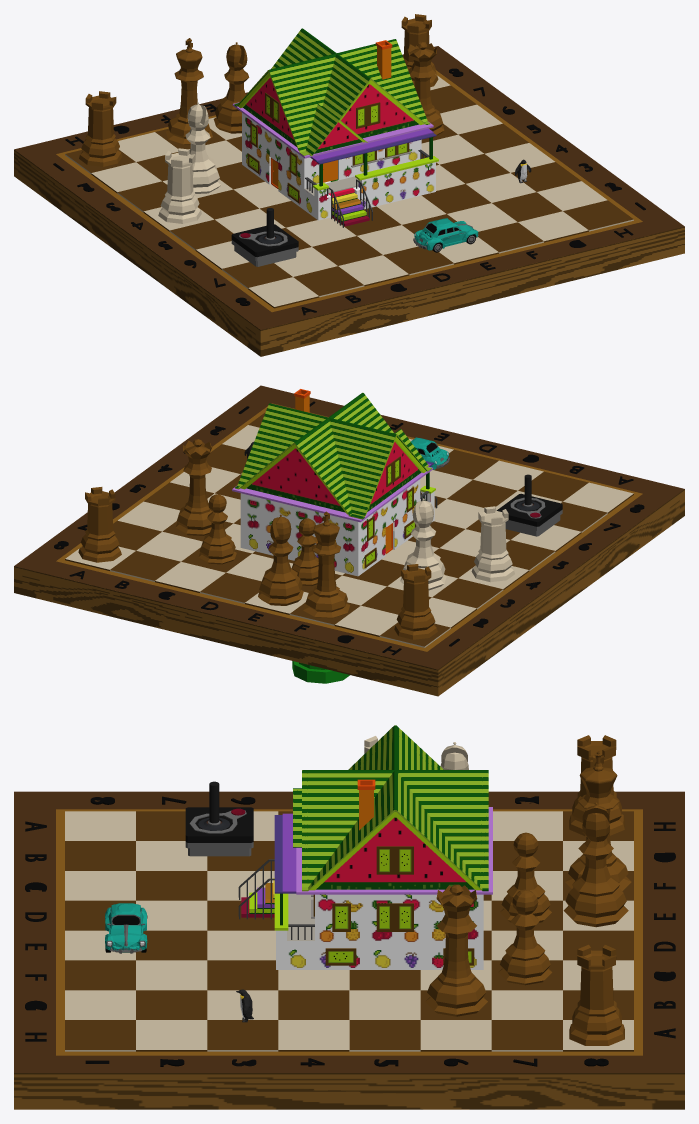
3 renders of one model, top to bottom at view 1: azimuth 30°, elevation 25°; view 2: azimuth 150°, elevation 25°; view 3: azimuth 270°, elevation 25°, orthographic. The views are drawn at different scales.
Visible parts, largest first — view 1: Cube.002, Cube.1063, OBJRANDOM_JOYSTICK, VEHICLES_VOLKSWAGEN; view 2: Cube.002, Cube.1063, OBJRANDOM_JOYSTICK, UNDERGROUND_PIPES, VEHICLES_VOLKSWAGEN; view 3: Cube.002, Cube.1063, OBJRANDOM_JOYSTICK, VEHICLES_VOLKSWAGEN.
Part boxes in pixels (<box>): Cube.002: <box>14,14,684,356</box>; Cube.1063: <box>232,28,438,227</box>; OBJRANDOM_JOYSTICK: <box>231,208,298,266</box>; VEHICLES_VOLKSWAGEN: <box>413,218,478,252</box>; Cube.002: <box>14,385,684,696</box>; Cube.1063: <box>232,389,437,576</box>; OBJRANDOM_JOYSTICK: <box>496,474,562,536</box>; UNDERGROUND_PIPES: <box>292,661,349,683</box>; VEHICLES_VOLKSWAGEN: <box>411,437,449,469</box>; Cube.002: <box>14,735,684,1109</box>; Cube.1063: <box>238,725,492,969</box>; OBJRANDOM_JOYSTICK: <box>185,781,253,856</box>; VEHICLES_VOLKSWAGEN: <box>105,903,147,953</box>.
Bounding box in the file's own units: 3981 × 2068 × 4012.
Materials: 36 (4 with a texture image).
